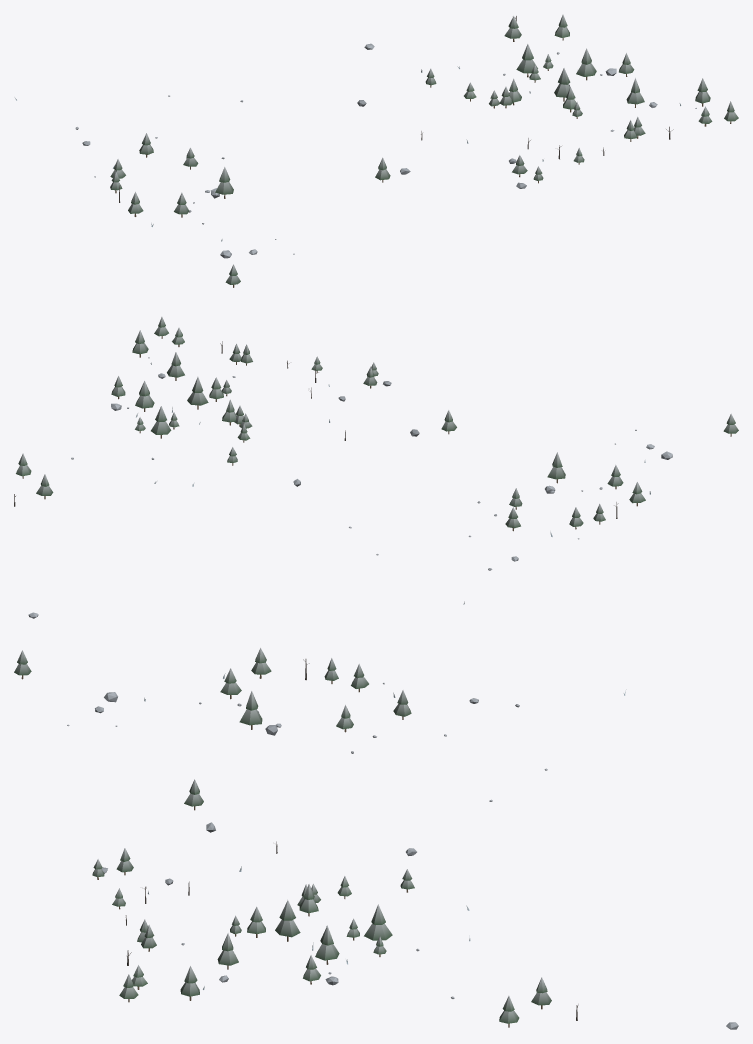
Rendered from frost_land_scatter_c15_09_lod1.glb.
3 renders of one model, top to bottom at view 1: azimuth 30°, elevation 25°; view 2: azimuth 150°, elevation 25°; view 3: azimuth 270°, elevation 25°, orthographic. The views are drawn at different scales.
Visible parts, largest first — view 1: frost_land_scatter_c15_09_lod1; view 2: frost_land_scatter_c15_09_lod1; view 3: frost_land_scatter_c15_09_lod1.
Part boxes in pixels (box(x1,y1,x2,y2)): frost_land_scatter_c15_09_lod1: box(14, 14, 738, 287); frost_land_scatter_c15_09_lod1: box(14, 317, 738, 618); frost_land_scatter_c15_09_lod1: box(14, 648, 738, 1029).
Bounding box in the file's own units: 260 × 50 × 240.
